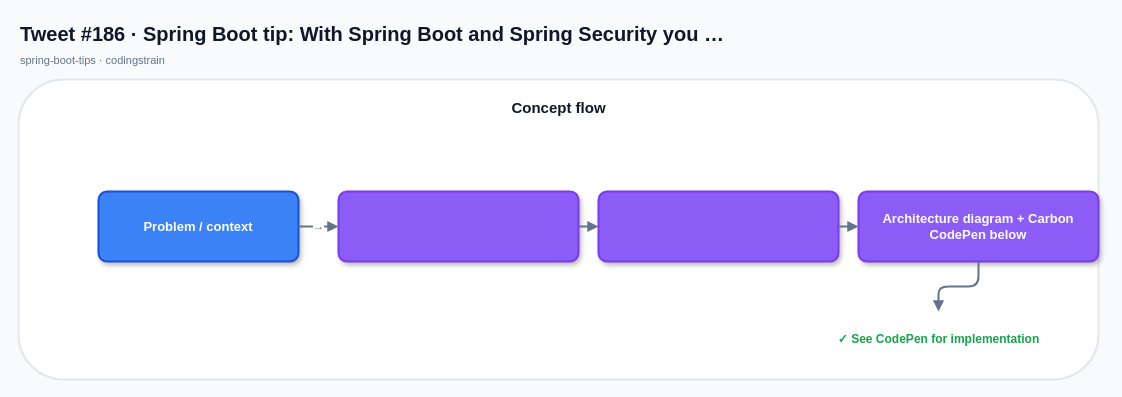
This 1122x397 diagram has some shape labels left out. Each missing label, with the centre of its shape:
"#SpringBoot #SpringSecurity #Java" belongs at (459,227).
"Runnable sample: `spring-boot-tips`" belongs at (719,227).
